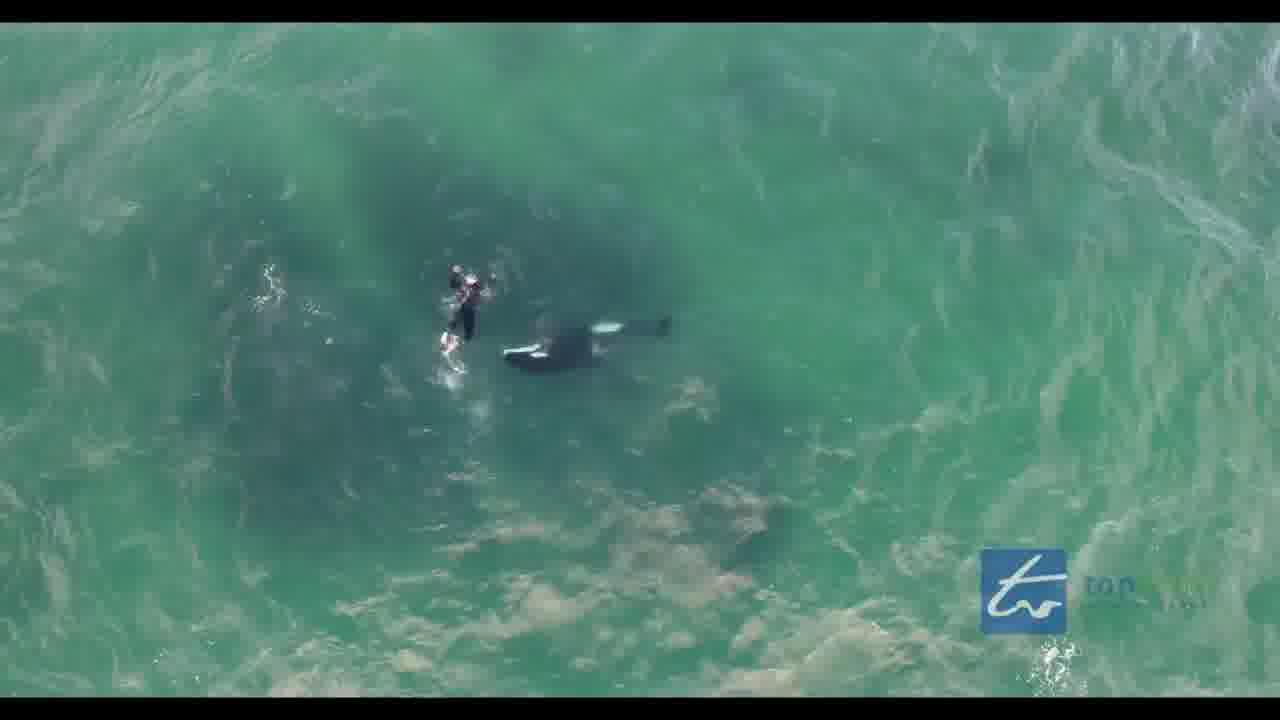human: (446, 250, 489, 360)
